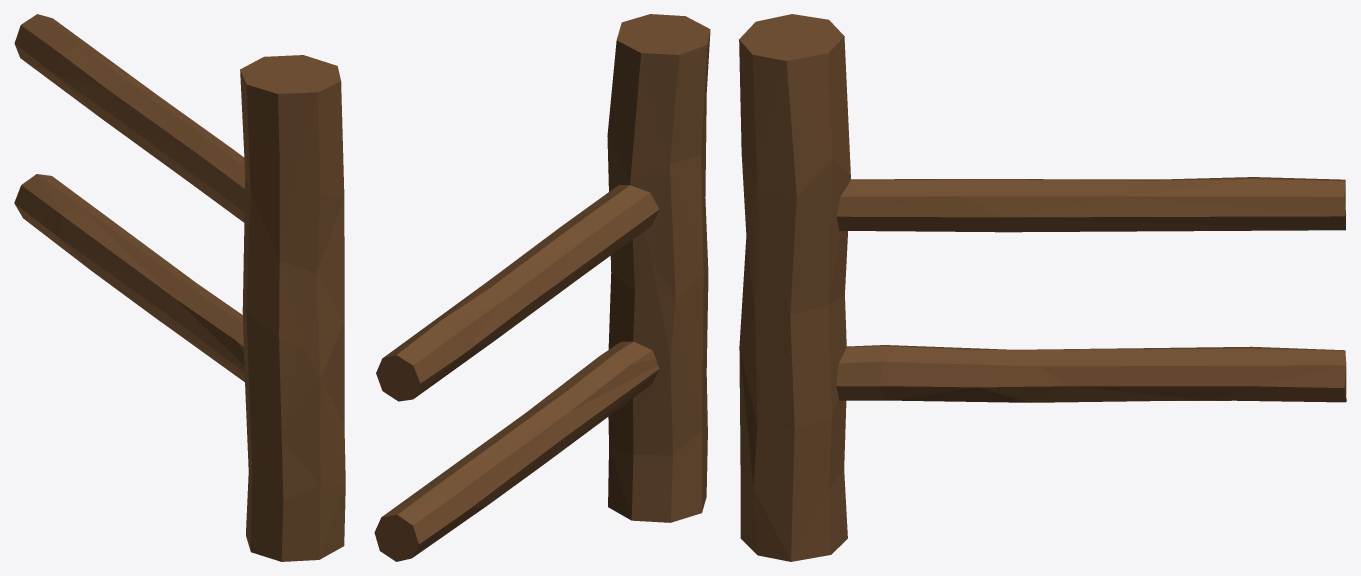
File: fence_left.glb
The picture shows the model from 3 angles, left to right: view 1: azimuth 30°, elevation 25°; view 2: azimuth 150°, elevation 25°; view 3: azimuth 270°, elevation 25°; orthographic projection. The views are drawn at different scales.
Parts seen in each view (by area): view 1: Cylinder.002; view 2: Cylinder.002; view 3: Cylinder.002.
Boxes of the visible parts, x1,y1,x2,y2 form: Cylinder.002: (14,14,345,561); Cylinder.002: (374,14,710,561); Cylinder.002: (739,14,1346,561).
Size of the model in its own units: 0.2108 by 1 by 1.11.
